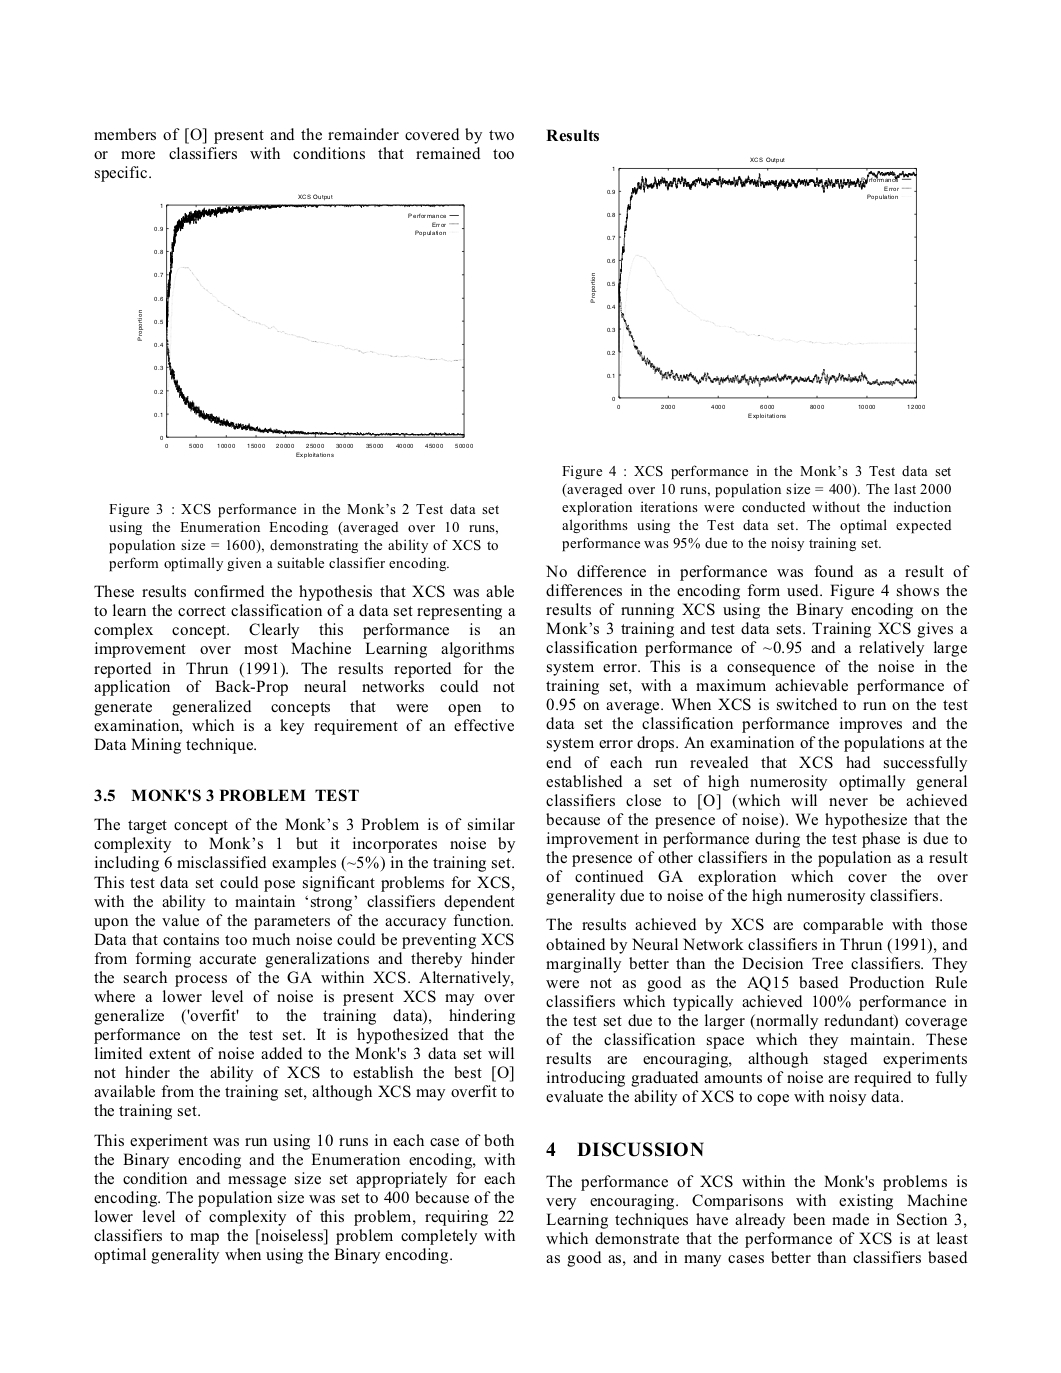figure: (137, 198, 473, 458), (590, 163, 924, 419)
